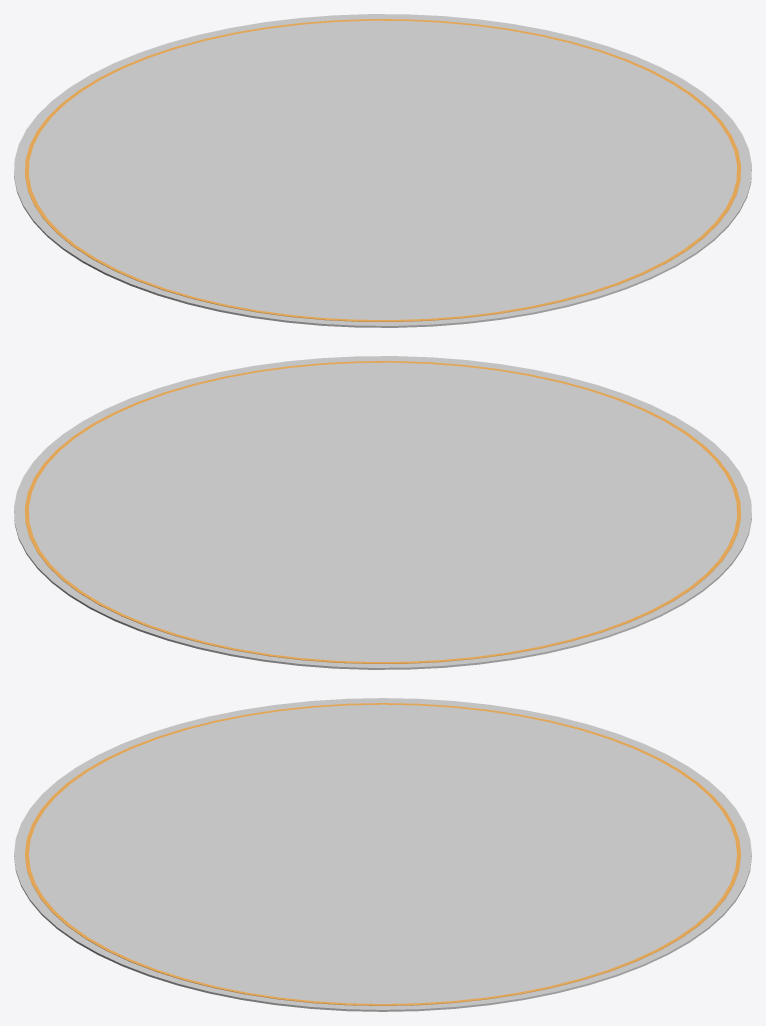
The model's file is MonumentDisc.glb.
3 views of the same model, one above another, from view 1: azimuth 30°, elevation 25°; view 2: azimuth 150°, elevation 25°; view 3: azimuth 270°, elevation 25° (orthographic).
Visible parts, largest first — view 1: Body, Glow; view 2: Body, Glow; view 3: Body, Glow.
Boxes of the visible parts, <box> form: Body: <box>14,14,751,327</box>; Glow: <box>25,19,740,321</box>; Body: <box>14,356,751,669</box>; Glow: <box>25,361,740,663</box>; Body: <box>14,698,751,1011</box>; Glow: <box>25,703,740,1005</box>.
Size of the model in its own units: 54.4 by 0.16 by 54.4.
